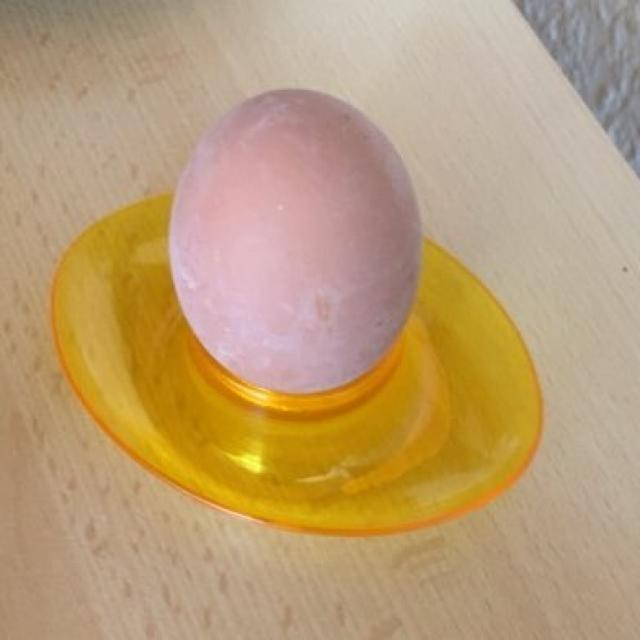egg: (172, 94, 424, 400)
